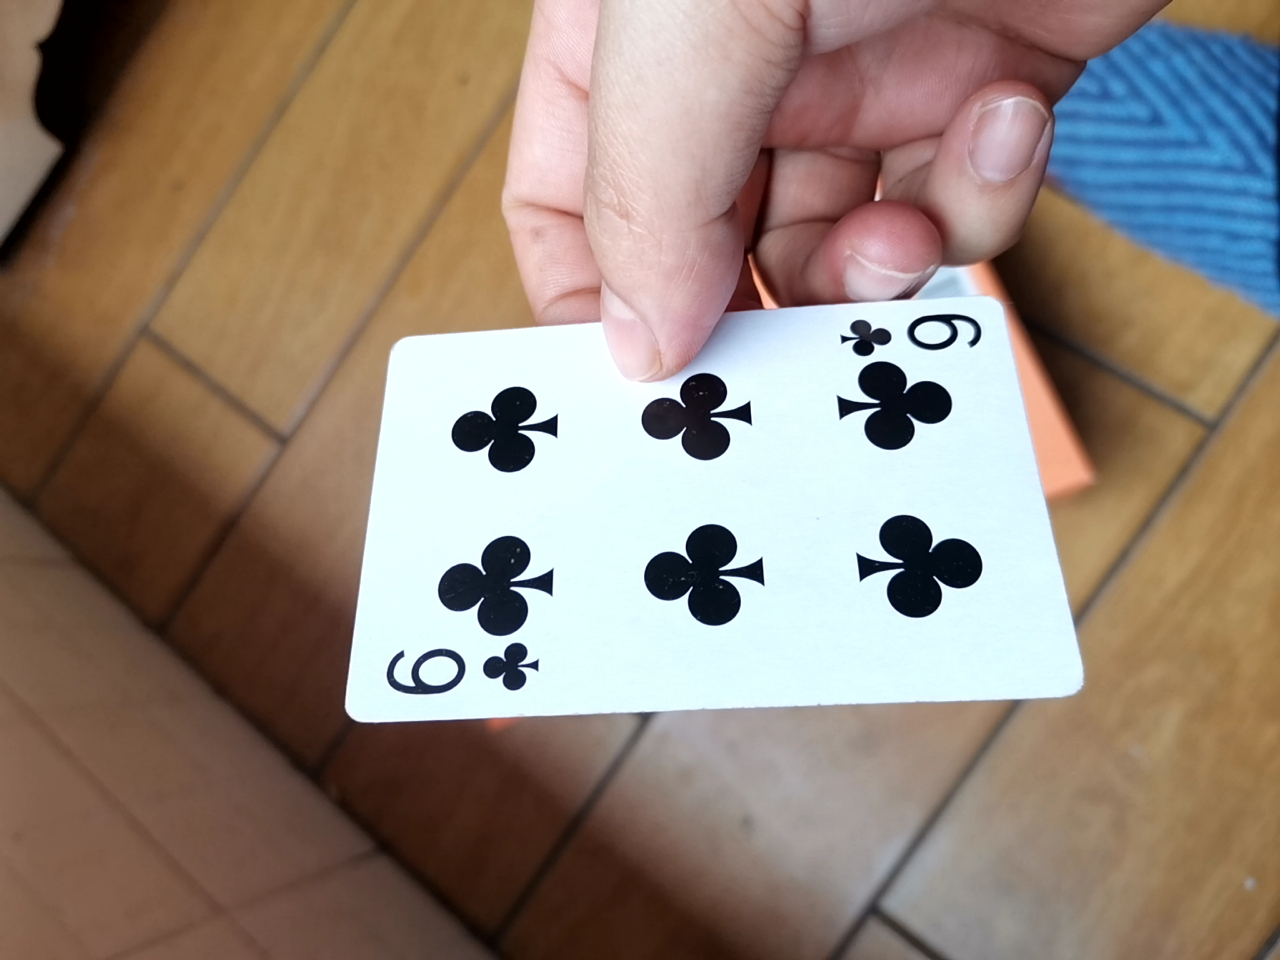mh 6: (331, 282, 1095, 738)
